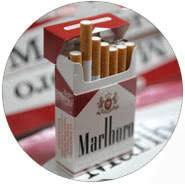marlboro: (73, 63, 136, 170)
